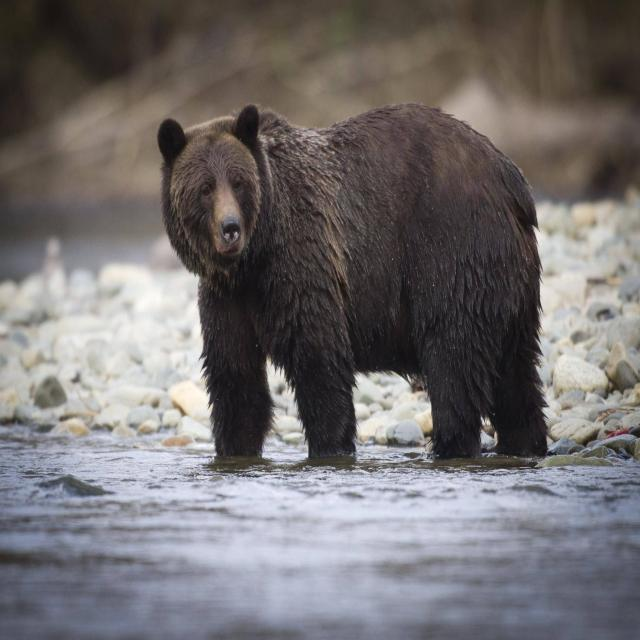Bear: (156, 104, 550, 473)
